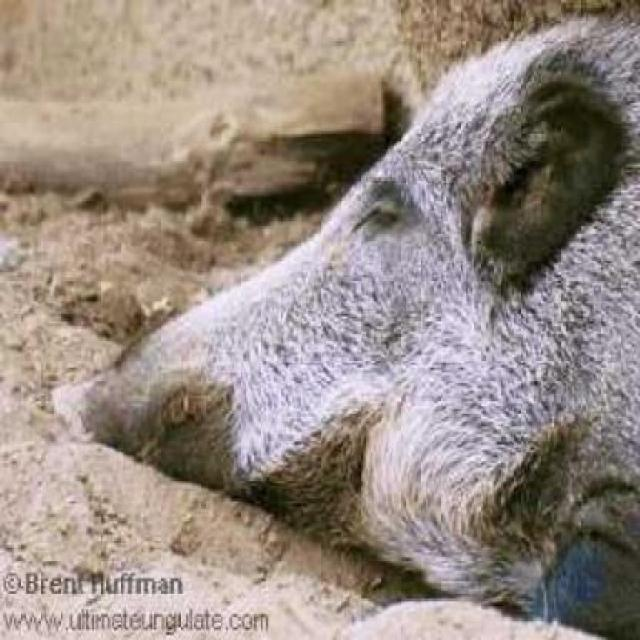Boar: (80, 20, 638, 598)
